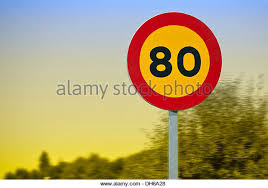Speed_limit_80km: (126, 12, 222, 110)
